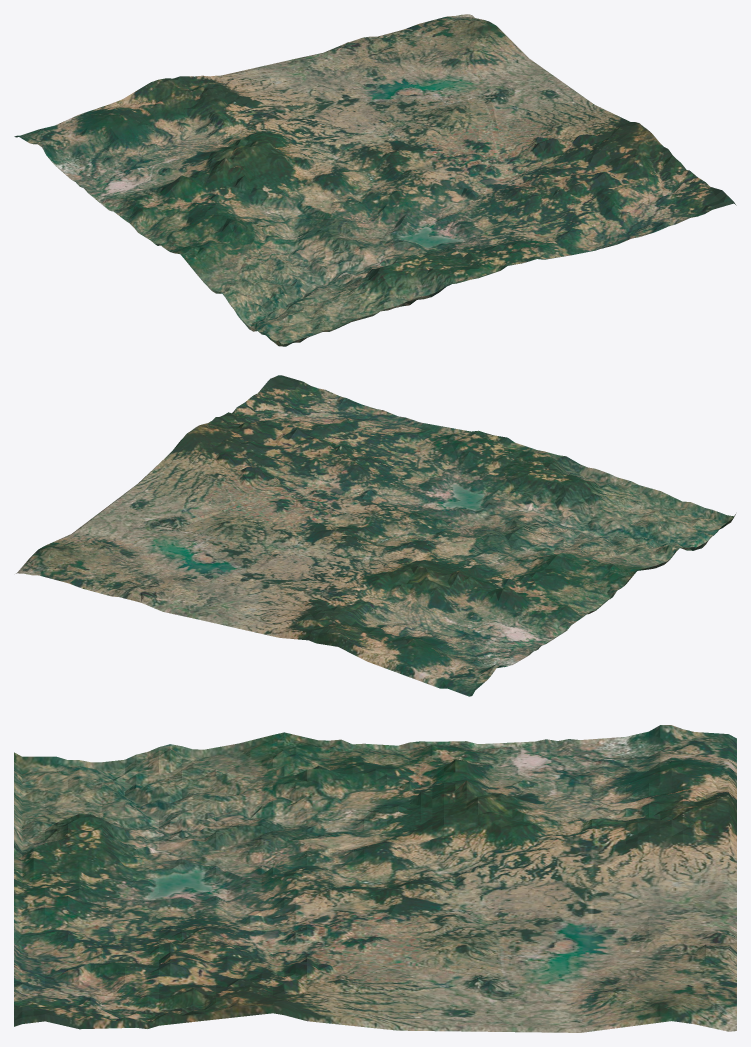
File: Mapa_3D_2.glb
The picture shows the model from 3 angles, top to bottom: view 1: azimuth 30°, elevation 25°; view 2: azimuth 150°, elevation 25°; view 3: azimuth 270°, elevation 25°; orthographic projection. The views are drawn at different scales.
Parts seen in each view (by area): view 1: Mapa_3D; view 2: Mapa_3D; view 3: Mapa_3D.
Boxes of the visible parts, box(x1,y1,x2,y2) form: Mapa_3D: box(14, 14, 736, 346); Mapa_3D: box(16, 375, 735, 696); Mapa_3D: box(14, 725, 736, 1032).
Size of the model in its own units: 70.59 by 7.39 by 70.59.
Materials: 1 (1 with a texture image).
